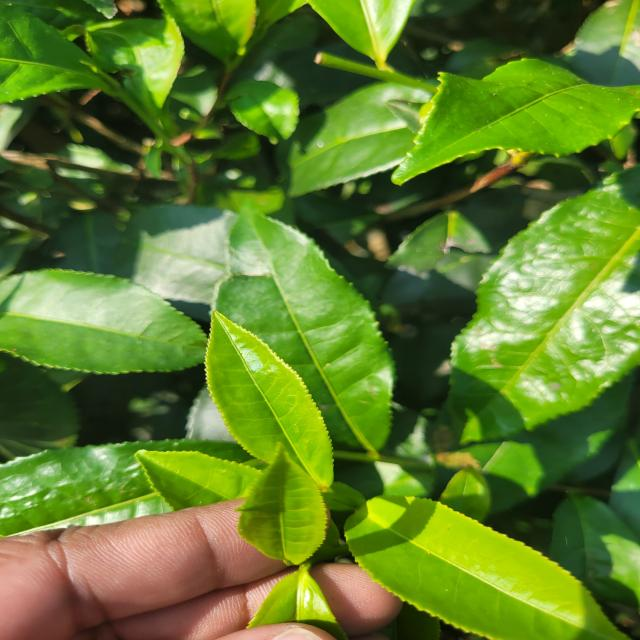Catagory A(1-2 days): (221, 433, 339, 570)
